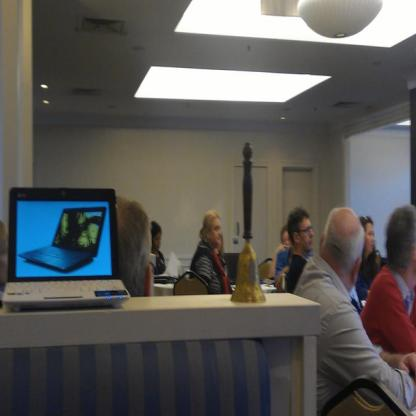board: (2, 186, 130, 314), (20, 208, 108, 273)
